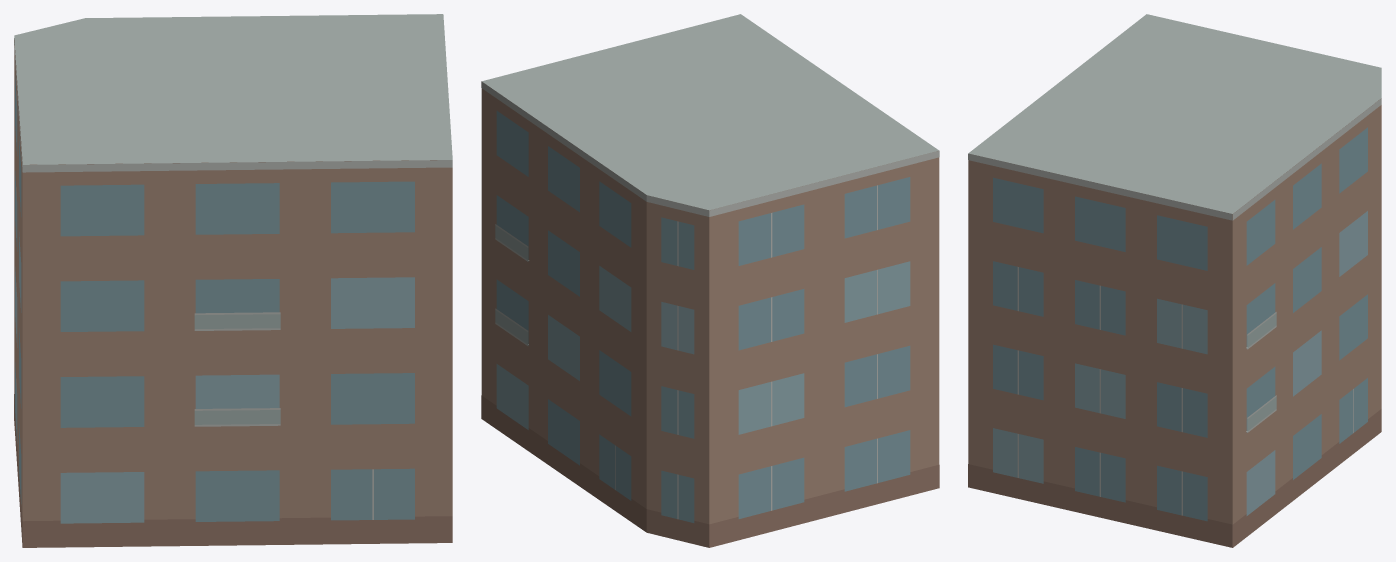
File: residential-e22a5dd9-30a2-49a0-9c1f-79ee6a1026c6.glb
The picture shows the model from 3 angles, left to right: view 1: azimuth 30°, elevation 25°; view 2: azimuth 150°, elevation 25°; view 3: azimuth 270°, elevation 25°; orthographic projection. The views are drawn at different scales.
Parts seen in each view (by area): view 1: residential-e22a5dd9-30a2-49a0-9c1f-79ee6a1026c6.tmp; view 2: residential-e22a5dd9-30a2-49a0-9c1f-79ee6a1026c6.tmp; view 3: residential-e22a5dd9-30a2-49a0-9c1f-79ee6a1026c6.tmp.
Boxes of the visible parts, <box> form: residential-e22a5dd9-30a2-49a0-9c1f-79ee6a1026c6.tmp: <box>14,14,452,547</box>; residential-e22a5dd9-30a2-49a0-9c1f-79ee6a1026c6.tmp: <box>481,14,939,547</box>; residential-e22a5dd9-30a2-49a0-9c1f-79ee6a1026c6.tmp: <box>968,14,1381,547</box>.
Size of the model in its own units: 15.68 by 12.2 by 13.71.
